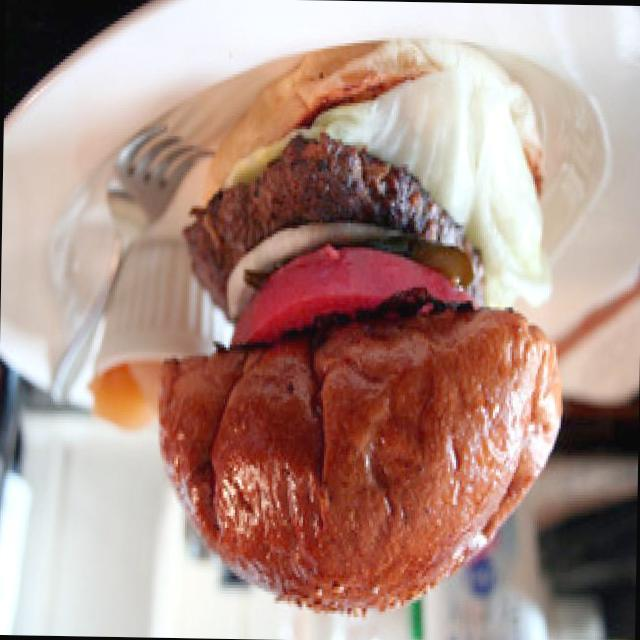Hamburger: (401, 434, 573, 640)
